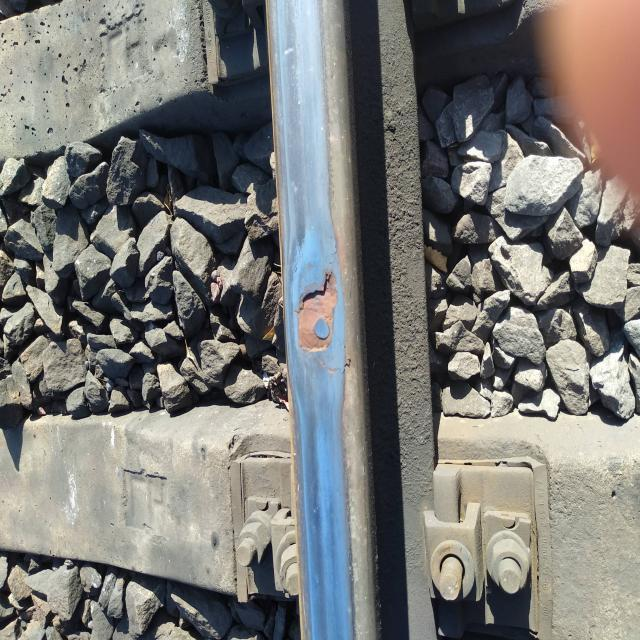broken_rail_medium: (292, 265, 340, 357), (315, 354, 353, 376)
head_checks_high: (283, 244, 354, 414)
